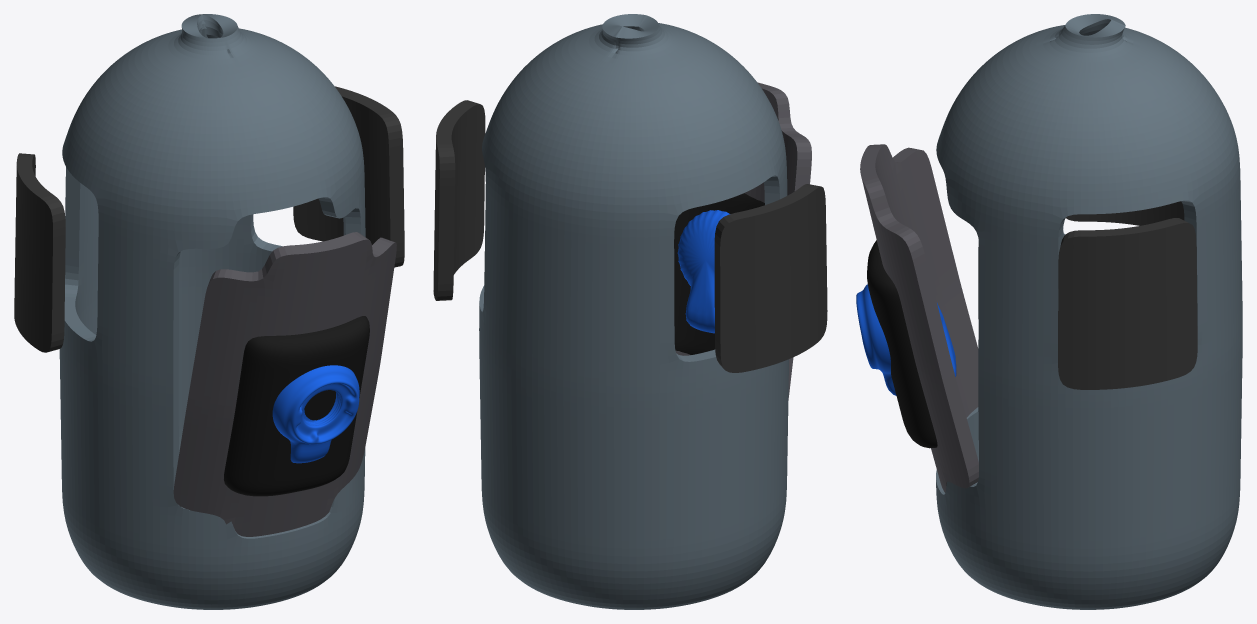
Rendered from time machine2.fbx.
3 views of the same model, side by side, from view 1: azimuth 30°, elevation 25°; view 2: azimuth 150°, elevation 25°; view 3: azimuth 270°, elevation 25° (orthographic).
Parts seen in each view (by area): view 1: Sphere, Sphere.001, Sphere.002, Cube, Cylinder; view 2: Sphere, Sphere.002, Cylinder, Cube, Sphere.001; view 3: Sphere, Sphere.002, Sphere.001, Cube, Cylinder.
Part boxes in pixels (x1,y1,x2,y2): Sphere: (59, 14, 365, 609); Sphere.001: (173, 232, 396, 536); Sphere.002: (14, 86, 404, 352); Cube: (224, 316, 369, 496); Cylinder: (272, 365, 359, 463); Sphere: (479, 14, 788, 609); Sphere.002: (433, 100, 827, 372); Cylinder: (677, 210, 729, 333); Cube: (674, 193, 764, 354); Sphere.001: (675, 82, 811, 400); Sphere: (936, 14, 1242, 609); Sphere.002: (1058, 201, 1197, 389); Sphere.001: (860, 144, 978, 492); Cube: (867, 240, 937, 448); Cylinder: (856, 284, 956, 395).
Size of the model in its own units: 2.66 by 3.83 by 2.48.
